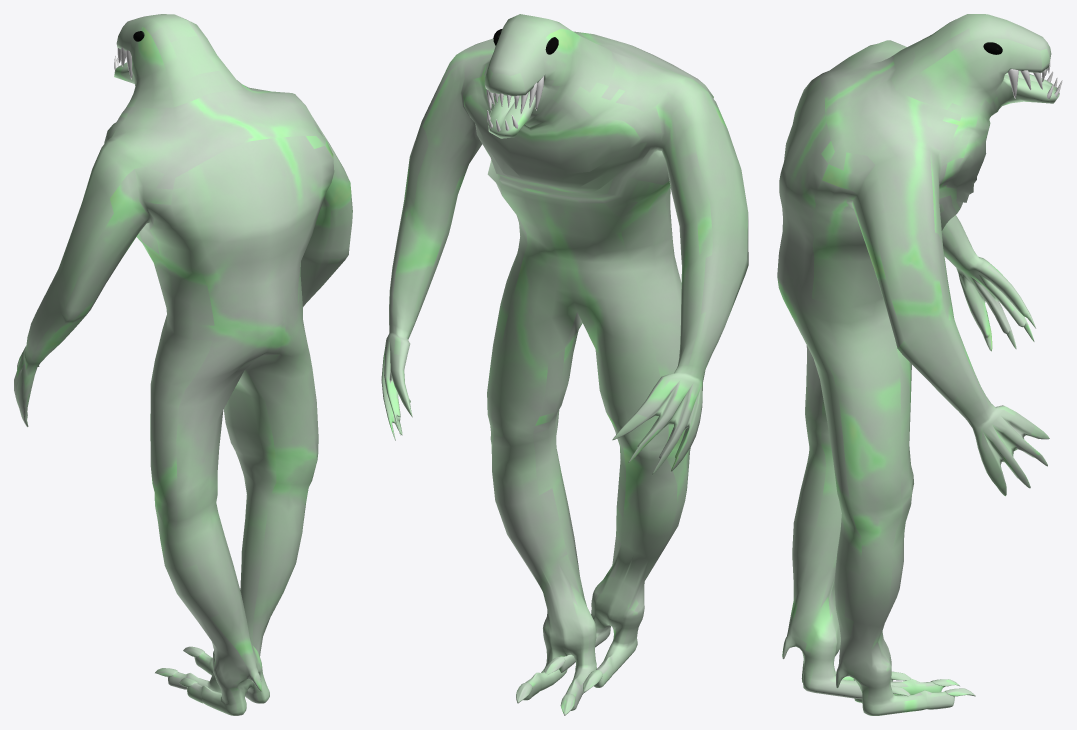
File: Berserkerandar.0089.obj
The picture shows the model from 3 angles, left to right: view 1: azimuth 30°, elevation 25°; view 2: azimuth 150°, elevation 25°; view 3: azimuth 270°, elevation 25°; orthographic projection. The views are drawn at different scales.
Visible parts, largest first — view 1: polySurface27; view 2: polySurface27; view 3: polySurface27.
Boxes of the visible parts, left/top/right/bottom form: polySurface27: left=14, top=14, right=352, bottom=715; polySurface27: left=381, top=14, right=748, bottom=715; polySurface27: left=777, top=14, right=1062, bottom=715.
Size of the model in its own units: 11.62 by 24.2 by 9.15.
1 material, 1 textured.
